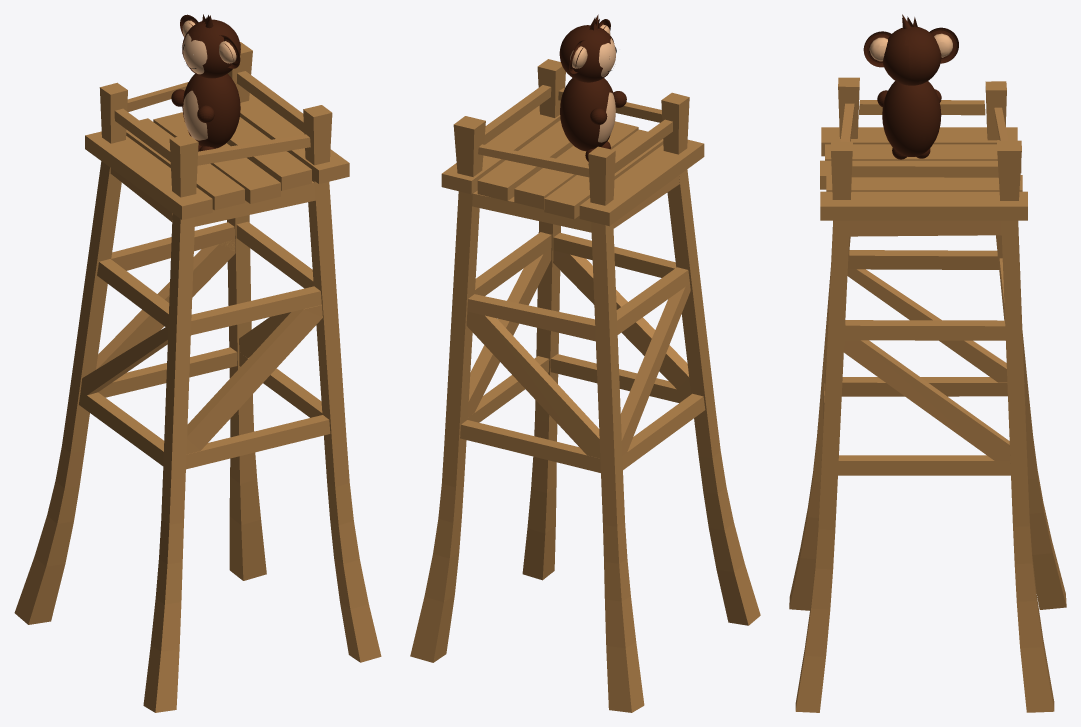
File: normal_defense_tower-1_monkeys.fbx
The picture shows the model from 3 angles, left to right: view 1: azimuth 30°, elevation 25°; view 2: azimuth 150°, elevation 25°; view 3: azimuth 270°, elevation 25°; orthographic projection. The views are drawn at different scales.
Visible parts, largest first — view 1: Cube.039; view 2: Cube.039; view 3: Cube.039.
Boxes of the visible parts, left/top/right/bottom form: Cube.039: left=14, top=14, right=381, bottom=712; Cube.039: left=410, top=14, right=760, bottom=712; Cube.039: left=789, top=14, right=1066, bottom=712.
Size of the model in its own units: 613 by 1589 by 623.
